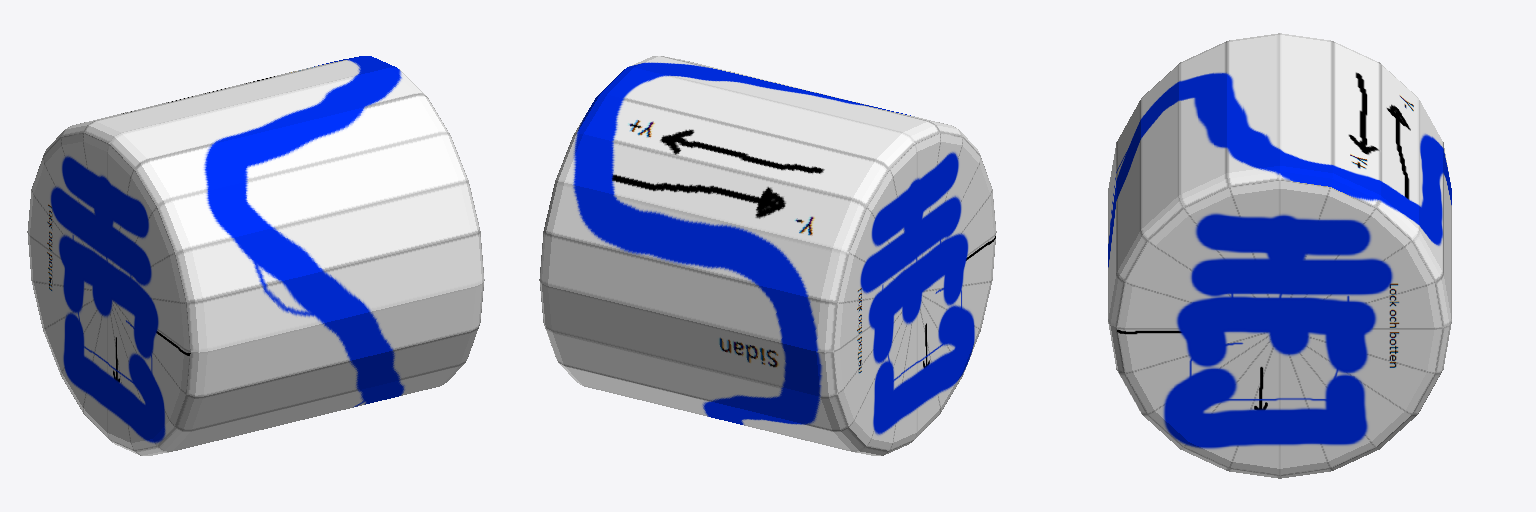
3 views of the same model, side by side, from view 1: azimuth 30°, elevation 25°; view 2: azimuth 150°, elevation 25°; view 3: azimuth 270°, elevation 25° (orthographic).
Visible parts, largest first — view 1: default; view 2: default; view 3: default.
Boxes of the visible parts, <box> form: default: <box>27,56,484,455</box>; default: <box>539,56,996,455</box>; default: <box>1108,33,1451,478</box>.
Size of the model in its own units: 1 by 1 by 1.
Materials: 1 (1 with a texture image).